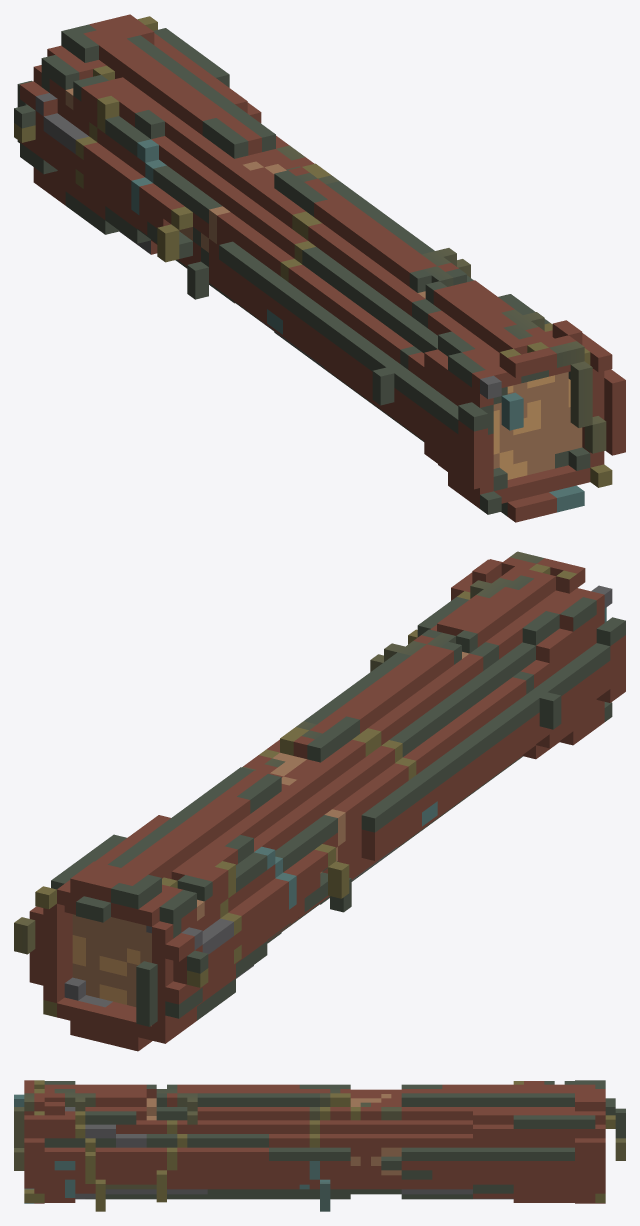
Rendered from Woodlog.fbx.
3 renders of one model, top to bottom at view 1: azimuth 30°, elevation 25°; view 2: azimuth 150°, elevation 25°; view 3: azimuth 270°, elevation 25°, orthographic. The views are drawn at different scales.
Parts seen in each view (by area): view 1: WoodLog Textured; view 2: WoodLog Textured; view 3: WoodLog Textured.
Part boxes in pixels (bbox=[...]): WoodLog Textured: bbox=[14, 14, 625, 522]; WoodLog Textured: bbox=[14, 551, 625, 1051]; WoodLog Textured: bbox=[14, 1080, 625, 1211].
Size of the model in its own units: 260 by 220 by 1200.
